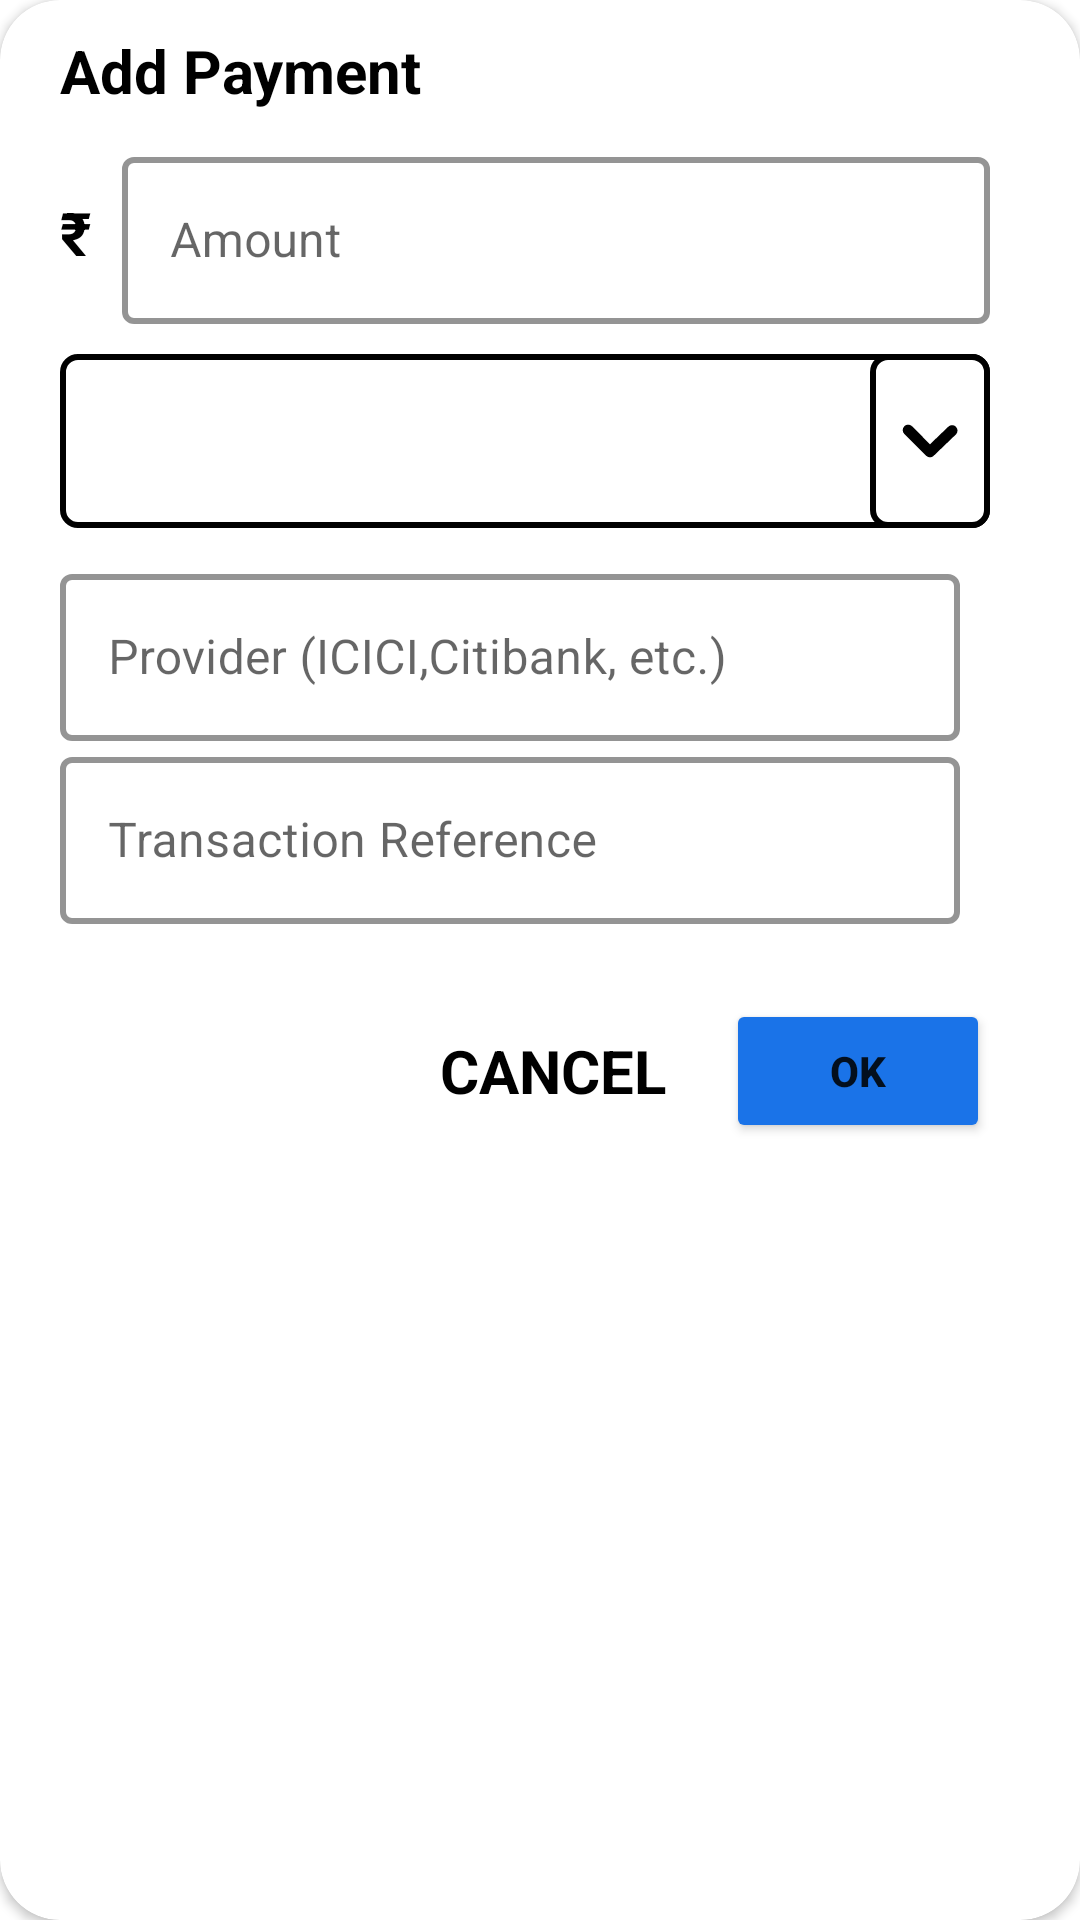

Where icons sit on this 1080 x 1920 app screen, as (x1, y1, x2, y2):
drop arrow: (870, 354, 990, 528)
